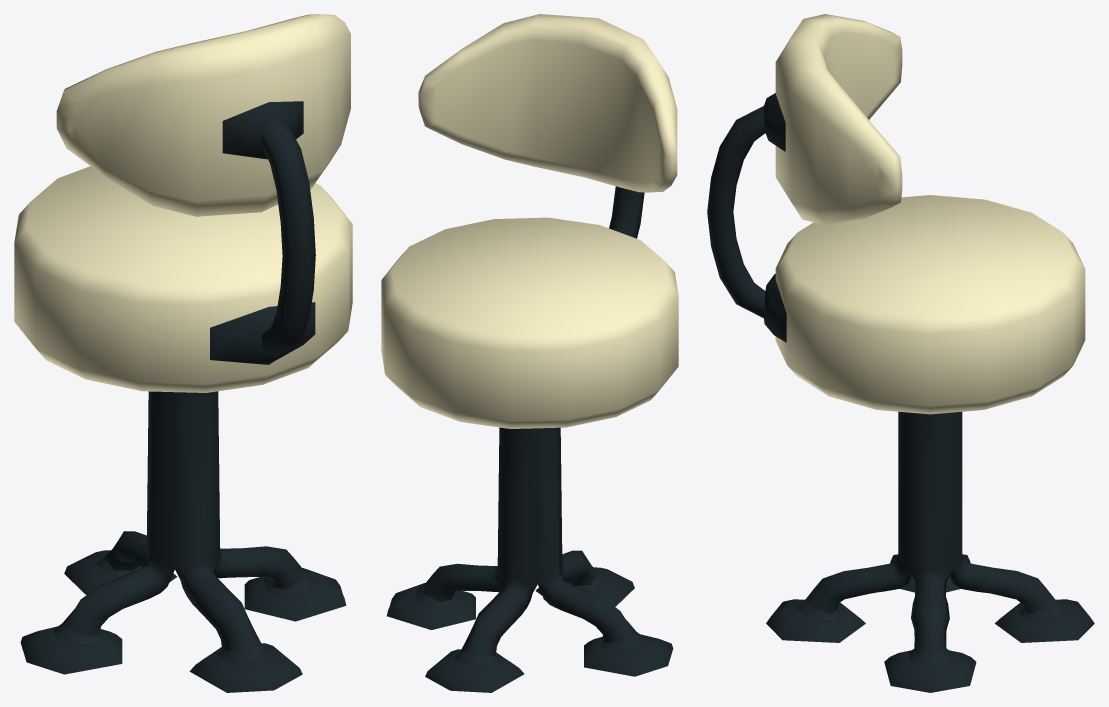
The model's file is 137_swivel_chair.glb.
3 views of the same model, side by side, from view 1: azimuth 30°, elevation 25°; view 2: azimuth 150°, elevation 25°; view 3: azimuth 270°, elevation 25° (orthographic). The views are drawn at different scales.
Visible parts, largest first — view 1: chair_base, chair_back, chair_back_holder; view 2: chair_base, chair_back, chair_back_holder; view 3: chair_base, chair_back, chair_back_holder.
Part boxes in pixels (box(x1,y1,x2,y2)): chair_base: box(14, 166, 352, 692); chair_back: box(56, 14, 350, 216); chair_back_holder: box(210, 101, 315, 364); chair_base: box(381, 217, 678, 692); chair_back: box(418, 14, 677, 192); chair_back_holder: box(609, 186, 644, 238); chair_base: box(766, 195, 1094, 692); chair_back: box(775, 14, 902, 224); chair_back_holder: box(707, 93, 786, 342).
Size of the model in its own units: 0.6363 by 1.24 by 0.75.
